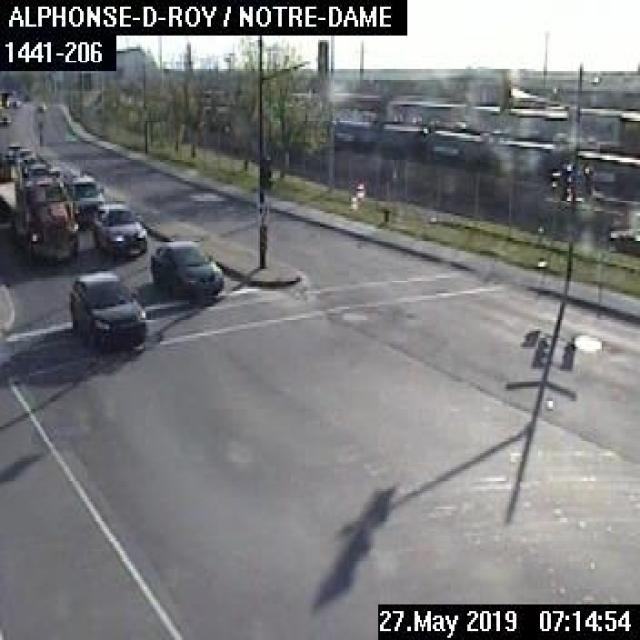vehicle: (0, 159, 80, 265), (65, 269, 147, 349), (148, 235, 224, 299), (89, 201, 149, 261), (65, 171, 105, 228), (0, 109, 11, 127)
